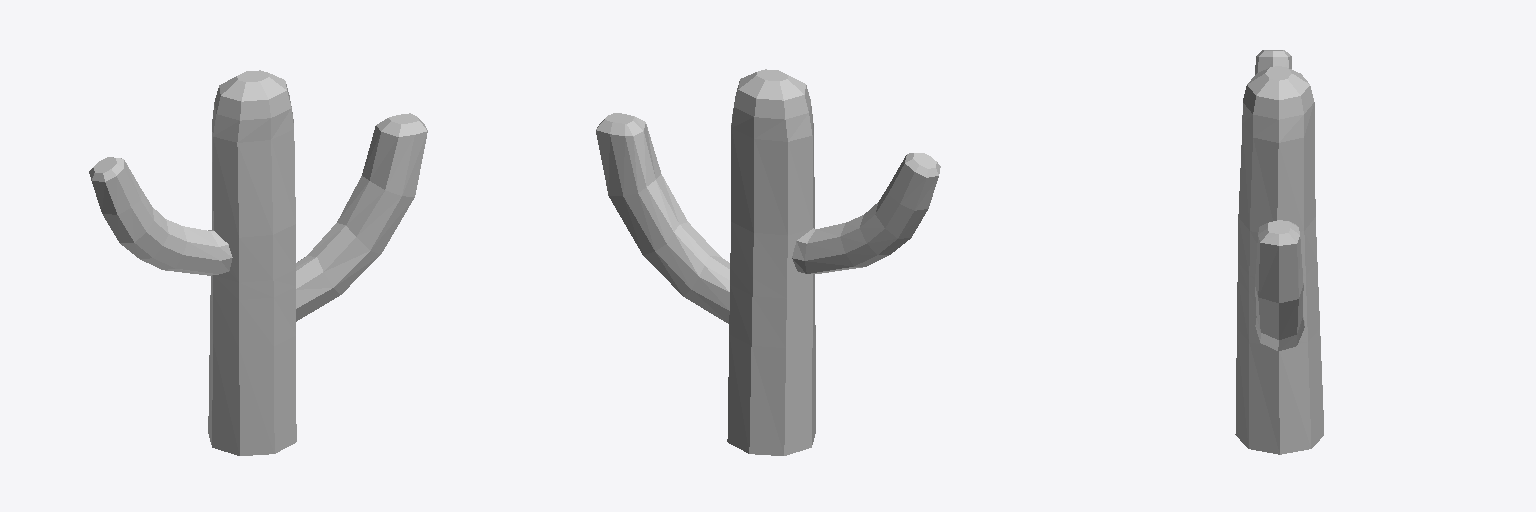
The model's file is cactus-small.obj.
3 views of the same model, side by side, from view 1: azimuth 30°, elevation 25°; view 2: azimuth 150°, elevation 25°; view 3: azimuth 270°, elevation 25° (orthographic).
Visible parts, largest first — view 1: cactus_1; view 2: cactus_1; view 3: cactus_1.
Part boxes in pixels (bbox=[...]): cactus_1: bbox=[89, 70, 427, 455]; cactus_1: bbox=[596, 69, 940, 455]; cactus_1: bbox=[1235, 50, 1323, 454].
Size of the model in its own units: 1.9 by 1.96 by 0.4359.